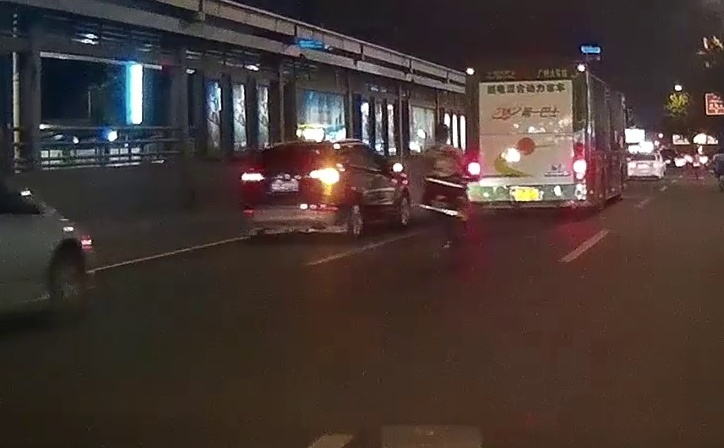L_light: (465, 149, 480, 179), (241, 170, 265, 181)
R_light: (309, 167, 340, 184), (573, 143, 588, 177)
T_light: (519, 71, 538, 78), (291, 143, 309, 147)
night-no: (462, 56, 590, 217)
night-right: (239, 138, 346, 239)
